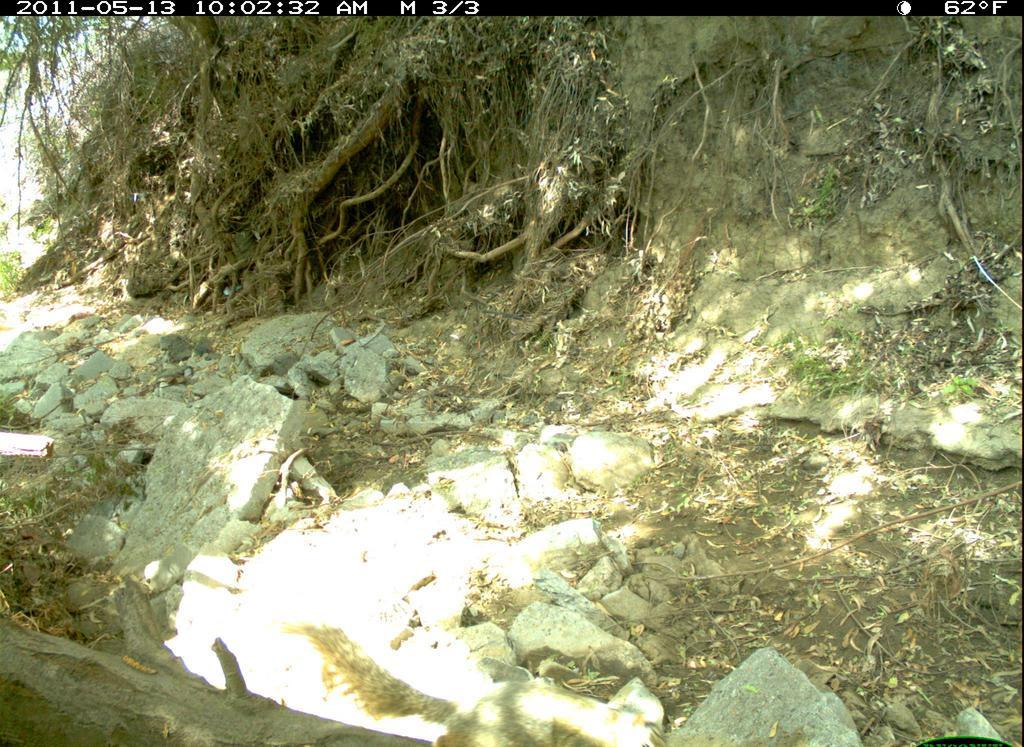squirrel: (283, 620, 674, 747)
